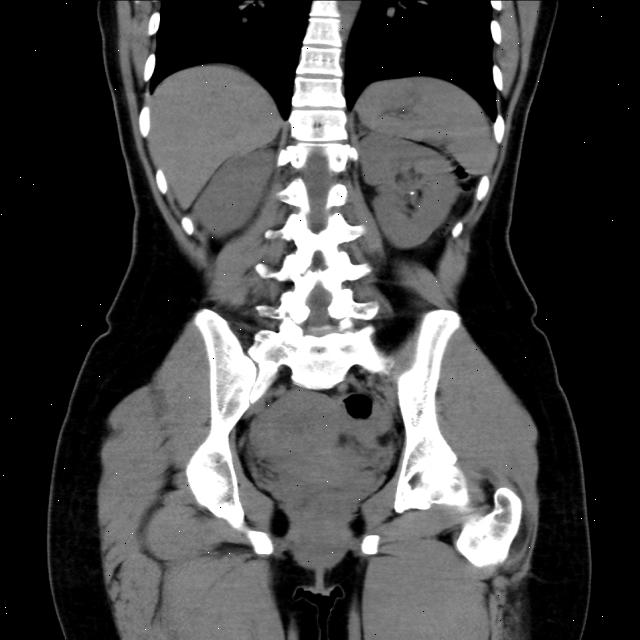kidneystone: (405, 182, 416, 201)
